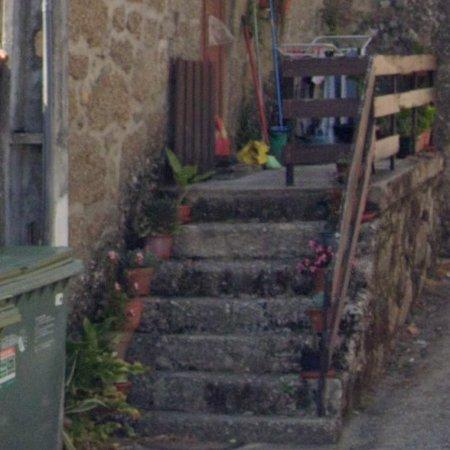stairs: (128, 184, 339, 444)
